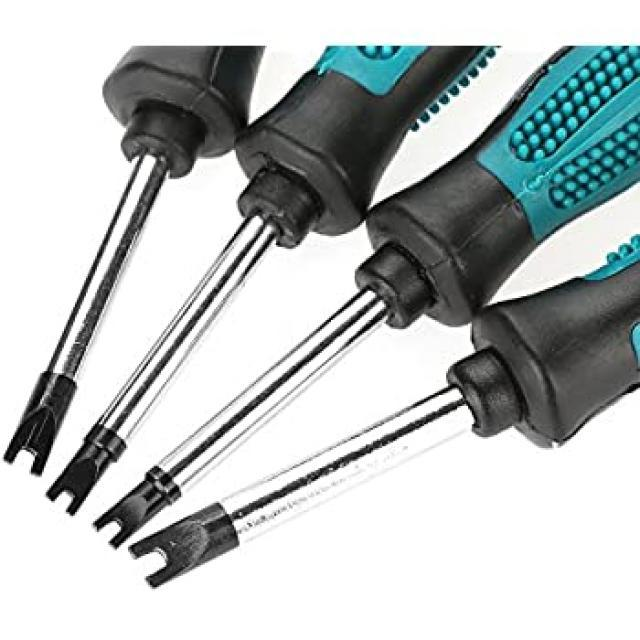screwdriver: (88, 40, 640, 553), (40, 46, 498, 521), (123, 231, 640, 595), (3, 44, 270, 483)
